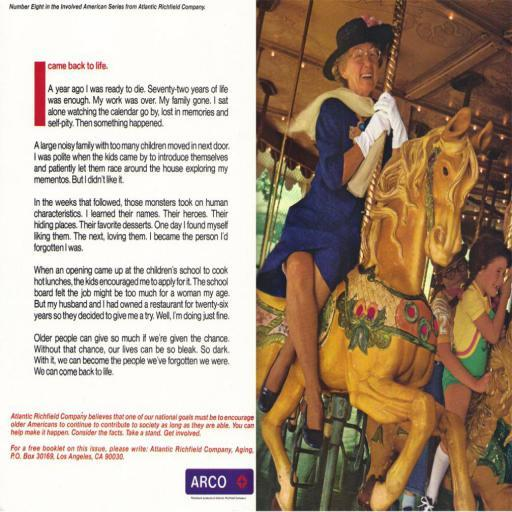Horse: (256, 107, 494, 511)
